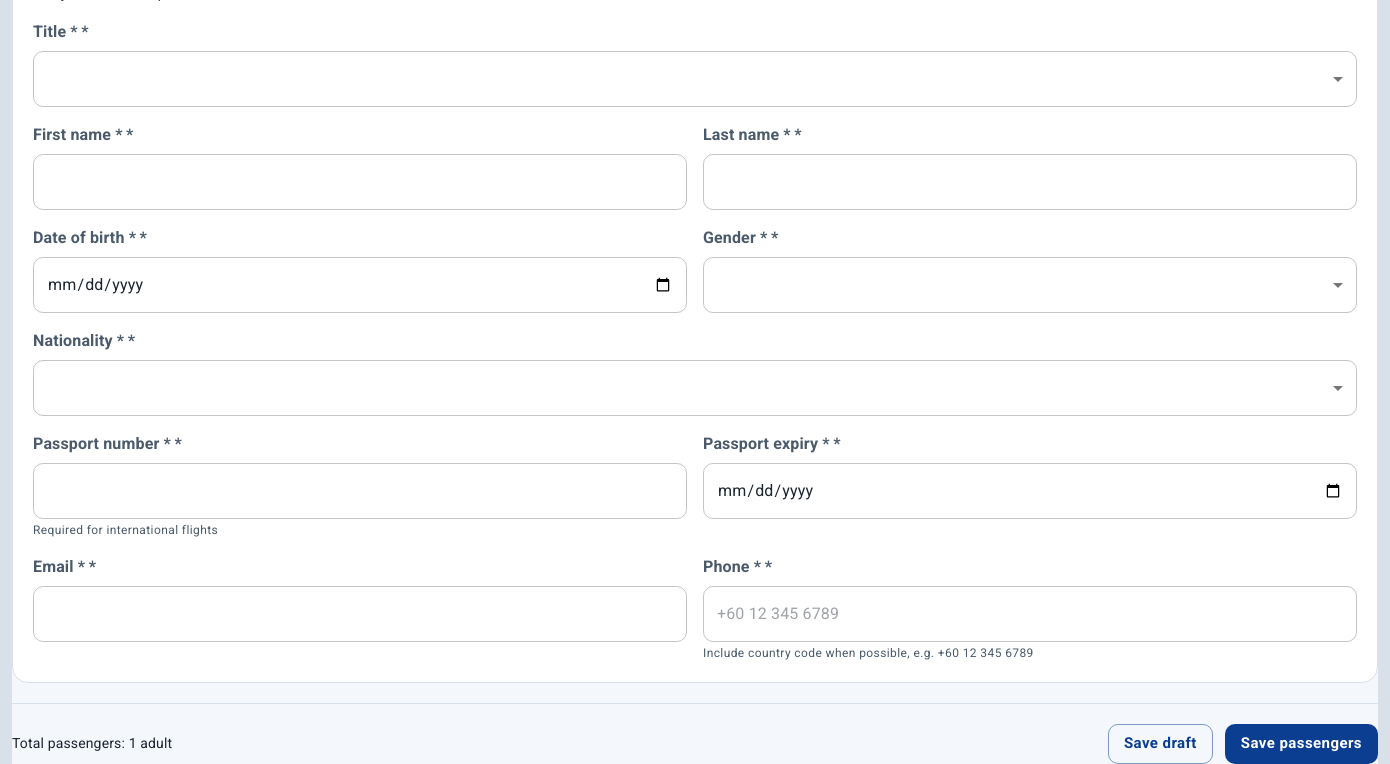
it: PassengerForm › shows validation errors when required adult fields are empty
(page scrolled)
Click the button "Save passengers" at (1301, 744), box top-left (1225, 724), bottom-right (1378, 763)
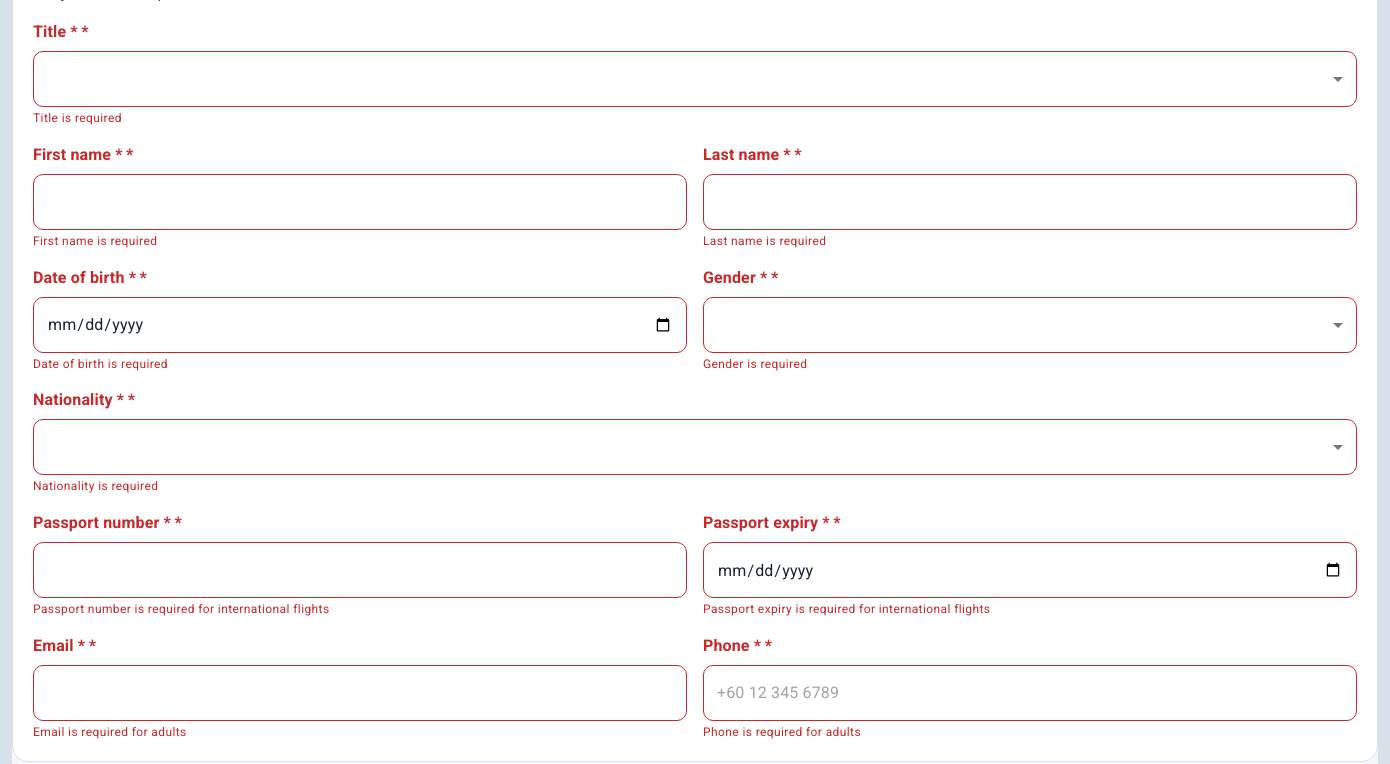
Now the text "Title is required" is shown, box top-left (33, 111), bottom-right (122, 125)
Now the text "First name is required" is shown, box top-left (33, 234), bottom-right (157, 248)
